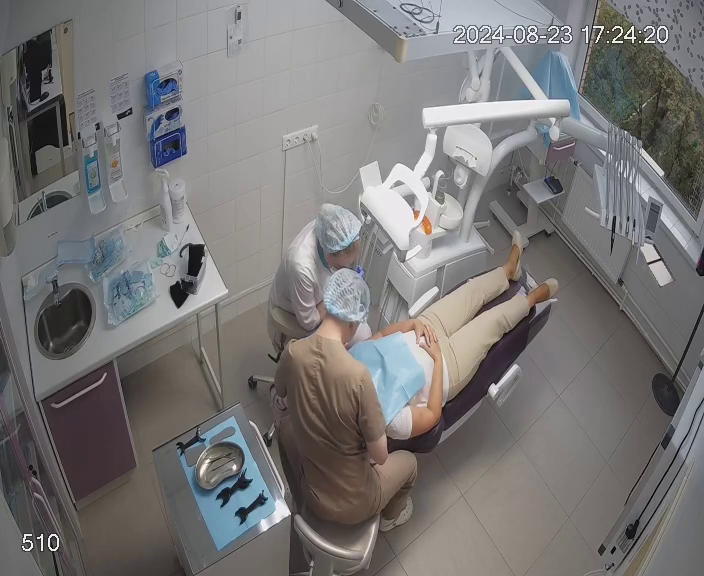Patient: (312, 232, 559, 459)
